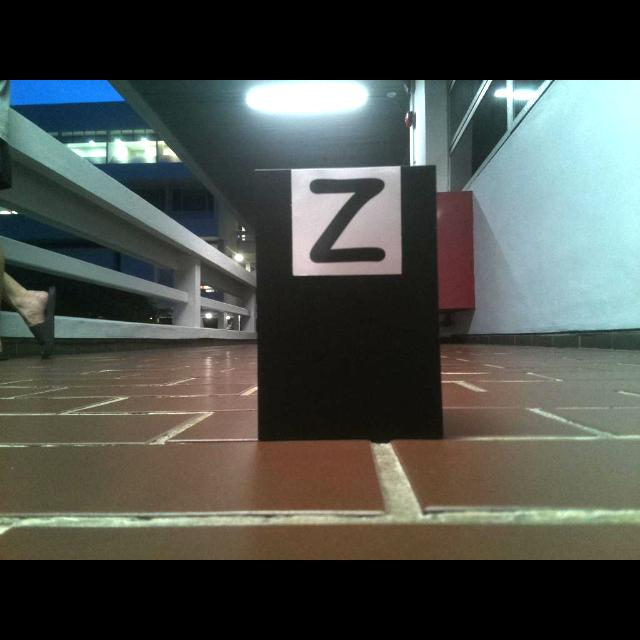Z: (309, 179, 385, 263)
